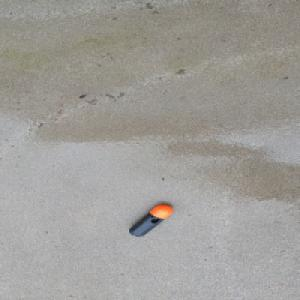PlasticPart: (127, 203, 174, 237)
